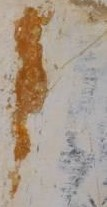Corrosion: (7, 6, 56, 200)
